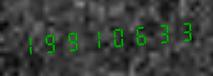nine: (39, 25, 60, 59), (61, 24, 82, 58)
one: (17, 27, 38, 61), (83, 22, 104, 56)
six: (127, 18, 148, 52)
three: (149, 16, 170, 50), (171, 14, 192, 48)
zero: (105, 20, 126, 54)
